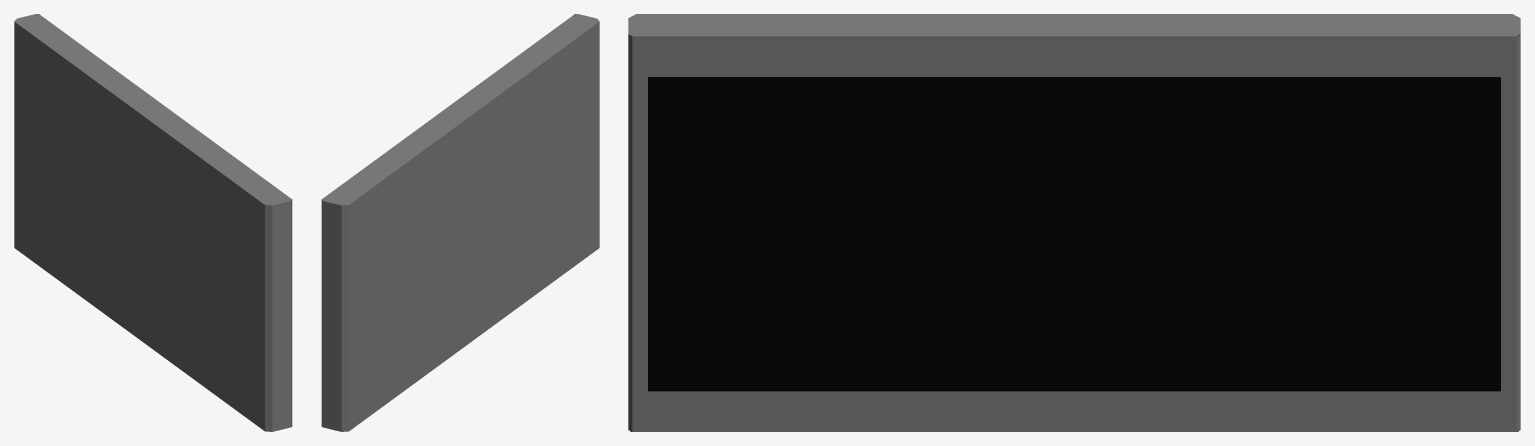
File: smallTv.fbx
The picture shows the model from 3 angles, left to right: view 1: azimuth 30°, elevation 25°; view 2: azimuth 150°, elevation 25°; view 3: azimuth 270°, elevation 25°; orthographic projection. The views are drawn at different scales.
Visible parts, largest first — view 1: pCube1; view 2: pCube1; view 3: pCube1.
Part boxes in pixels (x1,y1,x2,y2): pCube1: (14, 14, 292, 431); pCube1: (321, 14, 599, 431); pCube1: (628, 14, 1520, 431).
Size of the model in its own units: 5.91 by 48.68 by 99.53.
1 material, 1 textured.
